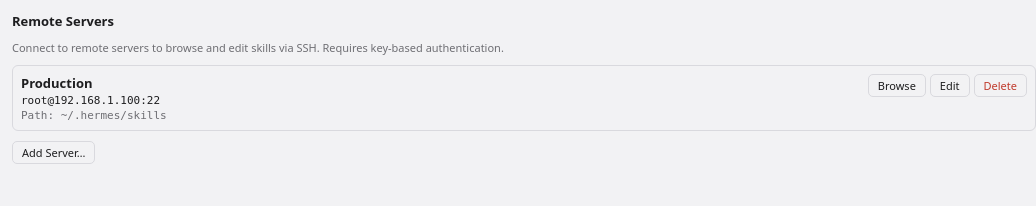
Test: RemoteServersPanel (T16 part B) › surfaces browse and install failures
Expected: the text "Production" is shown, x1=21 y1=74 x2=92 y2=92
Click the button with aria-label "Browse Production".
click(897, 86)  # box x1=868 y1=74 x2=926 y2=97
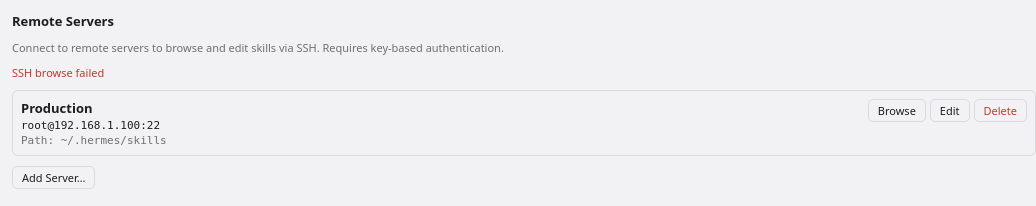
Result: the text "SSH browse failed" is shown at x1=12 y1=65 x2=104 y2=80
